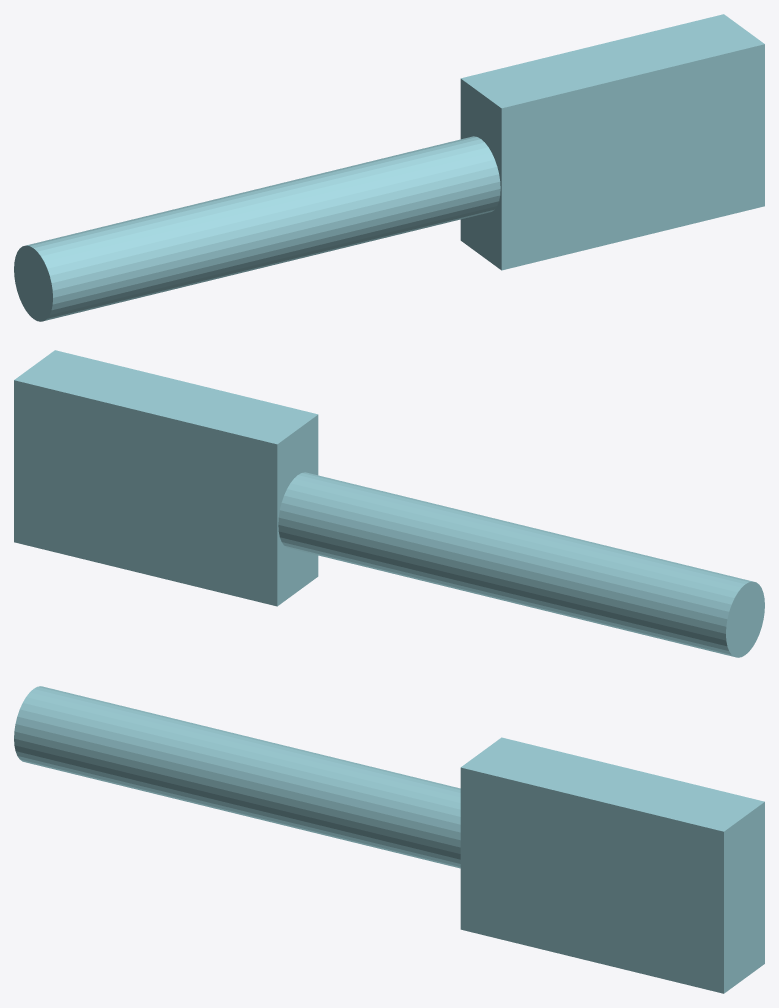
Rendered from cylinder_spatula_v6013.obj.
The picture shows the model from 3 angles, top to bottom: view 1: azimuth 30°, elevation 25°; view 2: azimuth 150°, elevation 25°; view 3: azimuth 330°, elevation 25°; orthographic projection.
Size of the model in its own units: 0.2849 by 0.0621 by 0.0285.
Materials: 1 (1 with a texture image).
